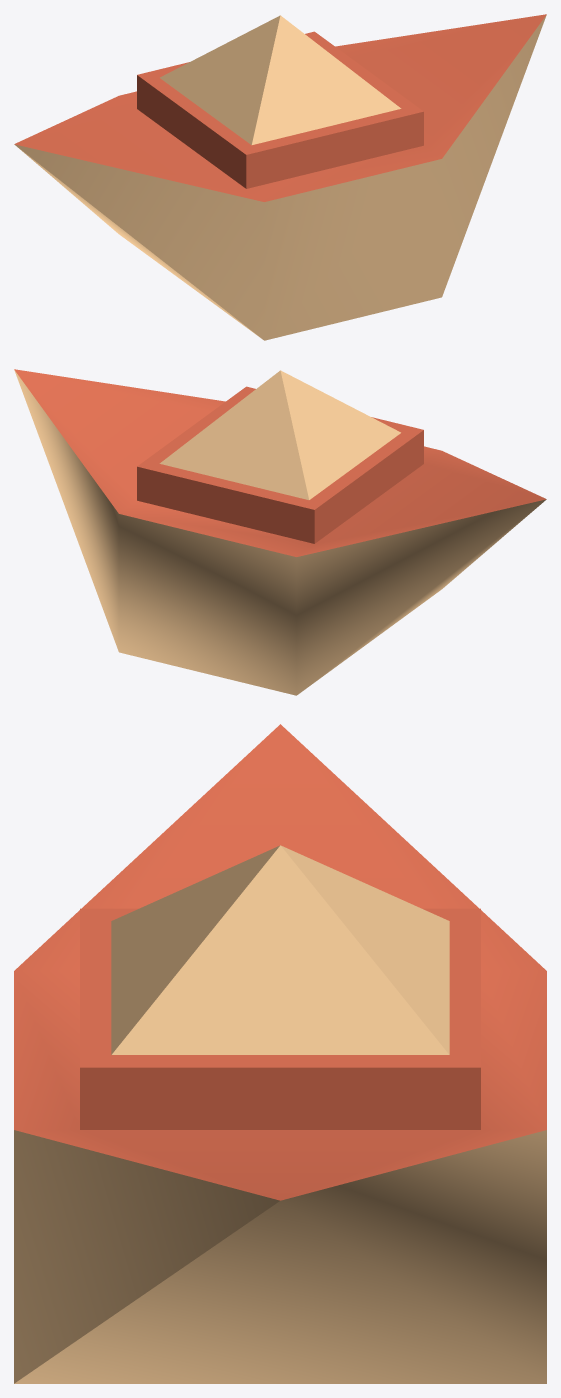
Rendered from offering.fbx.
The picture shows the model from 3 angles, top to bottom: view 1: azimuth 30°, elevation 25°; view 2: azimuth 150°, elevation 25°; view 3: azimuth 270°, elevation 25°; orthographic projection. The views are drawn at different scales.
Visible parts, largest first — view 1: offering; view 2: offering; view 3: offering.
Boxes of the visible parts, x1=… form: offering: x1=14, y1=14, x2=546, y2=340; offering: x1=14, y1=369, x2=546, y2=695; offering: x1=14, y1=724, x2=546, y2=1383.
Size of the model in its own units: 0.5322 by 0.2391 by 0.2515.
